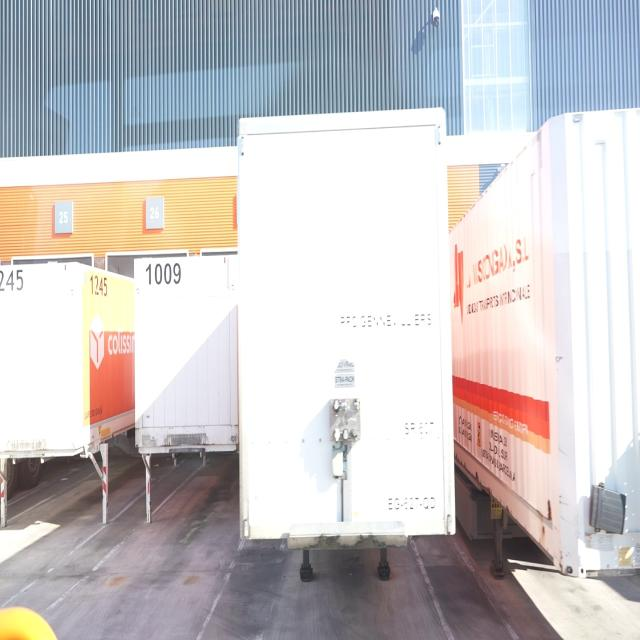Code: (143, 255, 184, 292)
